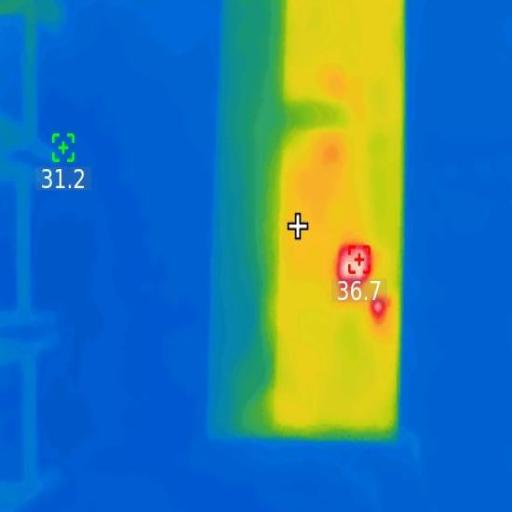hotspot: (338, 244, 374, 288), (372, 300, 390, 319)
